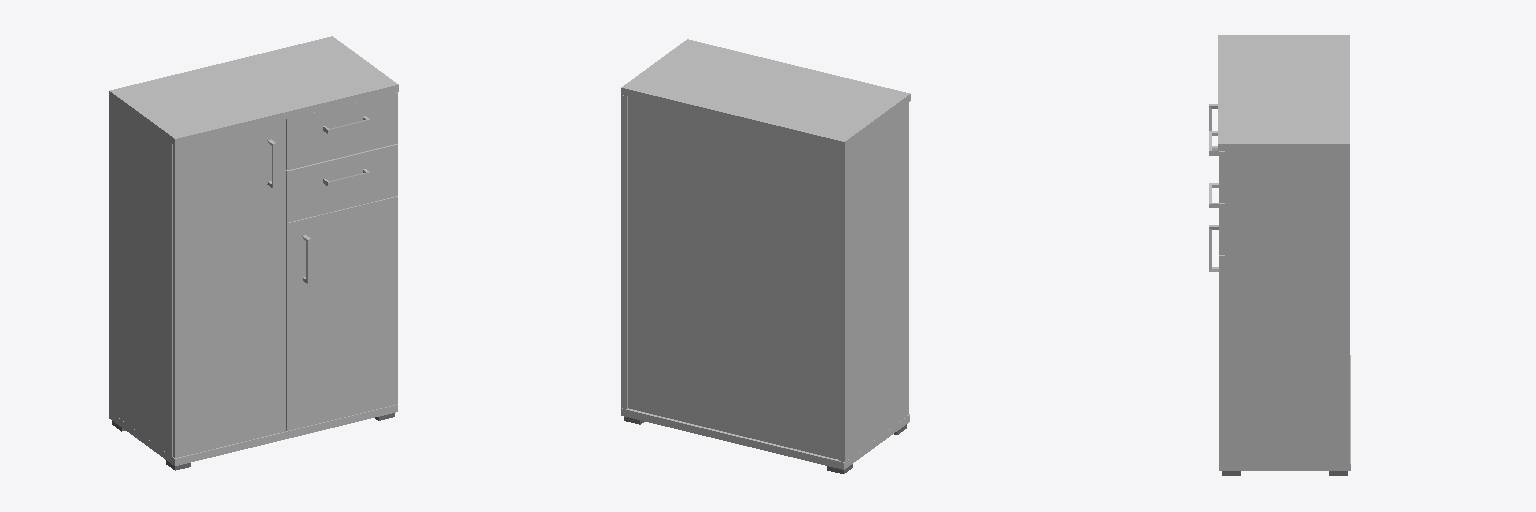
File: meubleChaussures.obj
3 renders of one model, left to right at view 1: azimuth 30°, elevation 25°; view 2: azimuth 150°, elevation 25°; view 3: azimuth 270°, elevation 25°, orthographic.
Parts seen in each view (by area): view 1: Cube_4_1_8, Cube_4_7, Cube_2_2, Cube_1_1_4, Cube_3_1_6, Cube_3_5, Cube_1_1; view 2: Cube_7_17, Cube_2_2, Cube_1_1_4, Cube_1_1, Cube_2_1_3, Cube_4_1_8; view 3: Cube_2_1_3, Cube_1_1_4, Cube_4_7, Cube_1_1.
Boxes of the visible parts, box(x1,y1,x2,y2) form: Cube_4_1_8: box(173, 120, 285, 457); Cube_4_7: box(286, 196, 397, 430); Cube_2_2: box(109, 98, 172, 456); Cube_1_1_4: box(109, 36, 398, 145); Cube_3_1_6: box(286, 144, 397, 222); Cube_3_5: box(286, 92, 397, 169); Cube_1_1: box(109, 404, 397, 465); Cube_7_17: box(628, 97, 838, 459); Cube_2_2: box(839, 104, 906, 461); Cube_1_1_4: box(621, 39, 910, 148); Cube_1_1: box(621, 408, 909, 469); Cube_2_1_3: box(621, 95, 627, 408); Cube_4_1_8: box(907, 103, 908, 414); Cube_2_1_3: box(1225, 151, 1349, 463); Cube_1_1_4: box(1218, 35, 1349, 150); Cube_4_7: box(1219, 255, 1224, 463); Cube_1_1: box(1219, 355, 1350, 470).
Bounding box in the file's own units: 71.7 × 102 × 39.57.